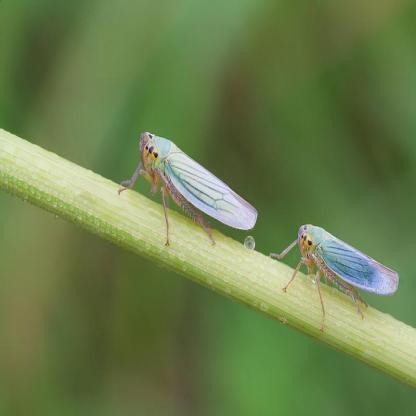Green-Leafhopper: (119, 124, 256, 254), (277, 223, 403, 318)
